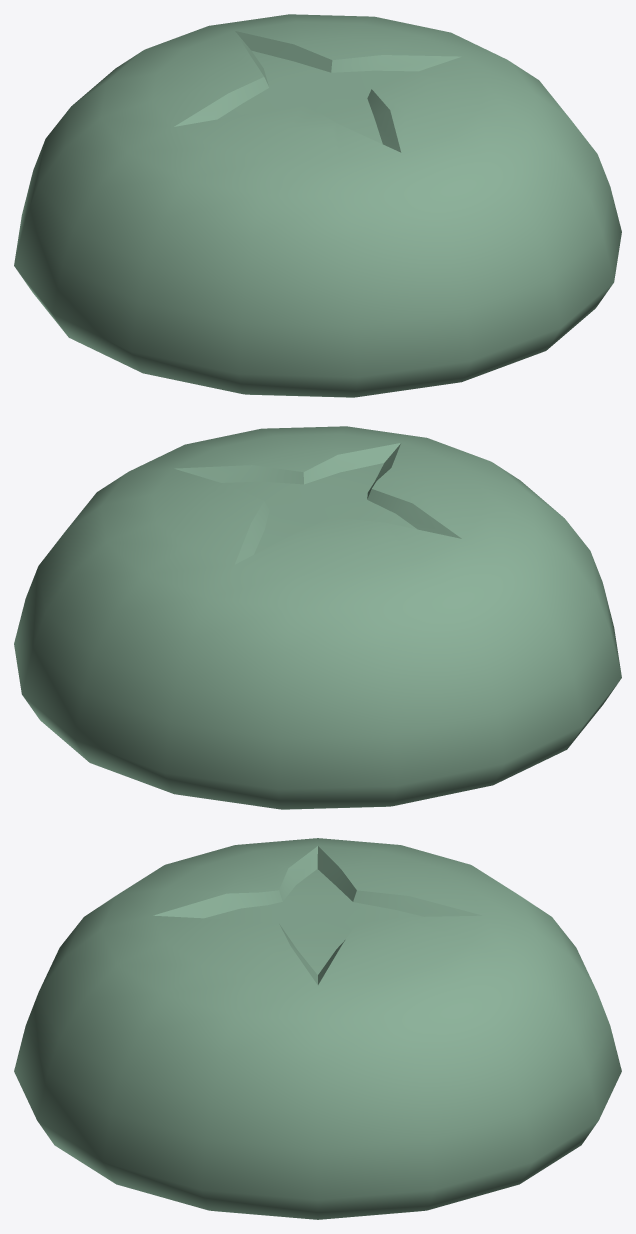
File: bun.fbx
3 views of the same model, one above another, from view 1: azimuth 30°, elevation 25°; view 2: azimuth 150°, elevation 25°; view 3: azimuth 270°, elevation 25° (orthographic).
Visible parts, largest first — view 1: pCylinder6; view 2: pCylinder6; view 3: pCylinder6.
Boxes of the visible parts, x1=… form: pCylinder6: x1=14, y1=14, x2=621, y2=397; pCylinder6: x1=14, y1=426, x2=621, y2=809; pCylinder6: x1=14, y1=838, x2=621, y2=1219.
Bounding box in the file's own units: 0.4003 × 0.1488 × 0.4003.
